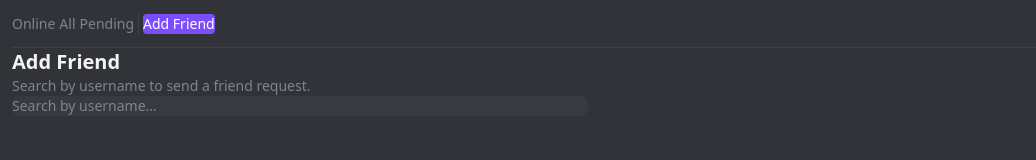
it: FriendsView — Add Friend tab › shows 'No users found' for an empty result
Type "zzz" into the field with placeholder "Search by username…" at coordinates (300, 106), box [12,96,588,116]
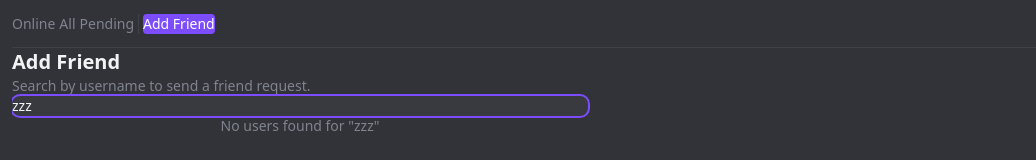
Expected: the text "No users found for \"zzz\"" is shown, [221,116,380,135]
